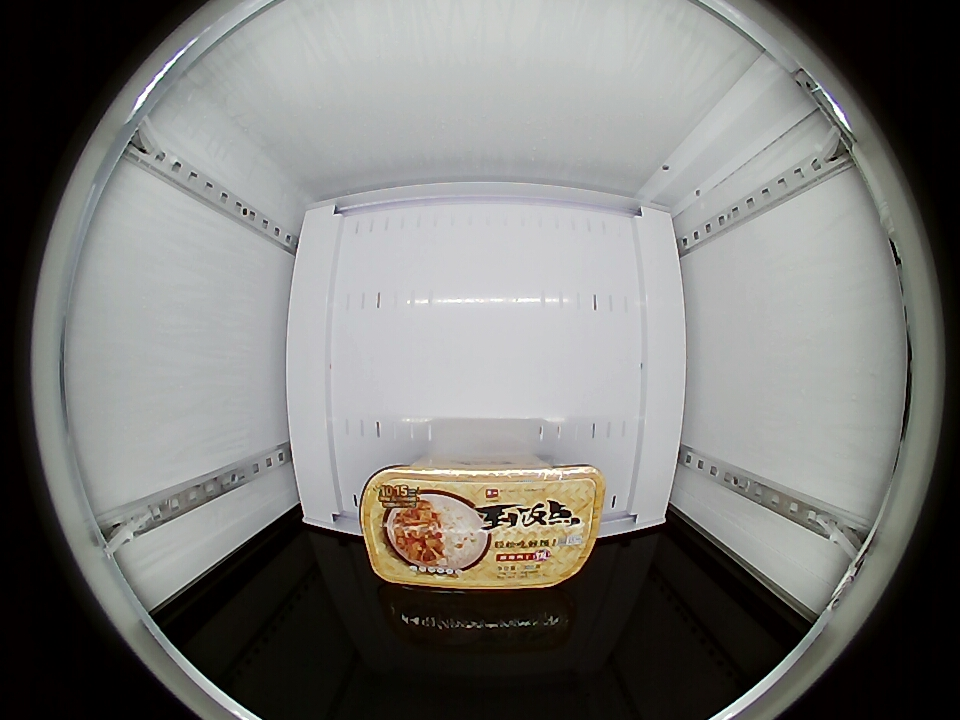daofandian4: (359, 459, 606, 591)
